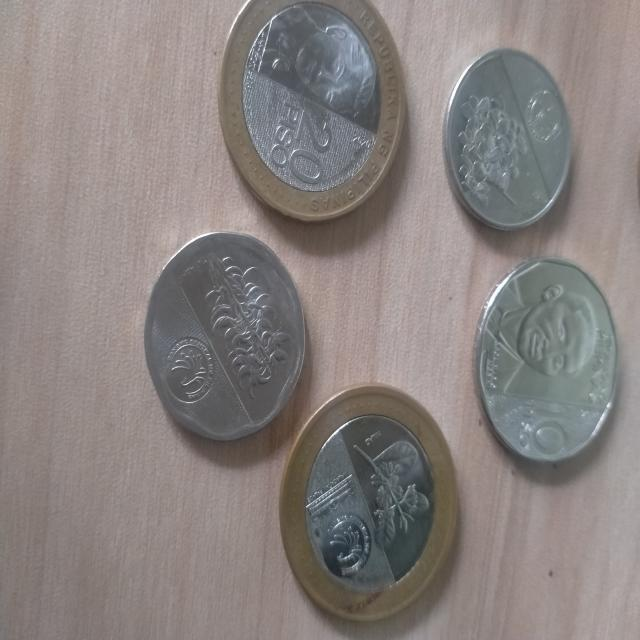20_New_Back: (353, 419, 432, 555)
20_New_Front: (262, 97, 336, 192)
5_New_Back: (203, 239, 291, 409)
